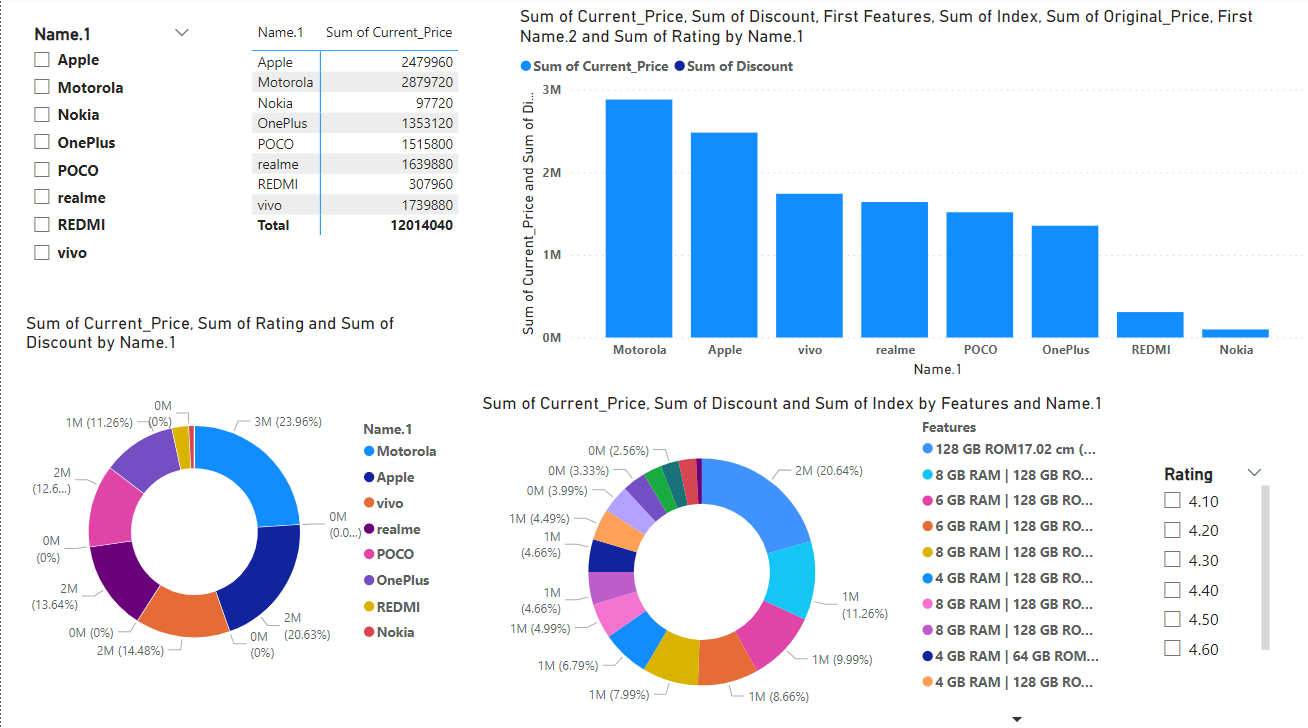

The page's visual inventory and layout, read from the dashboard file:
{"tool":"powerbi","page":{"name":"Page 1","canvas":[1280,720],"ordinal":0},"visuals":[{"type":"textbox","box":[10,0,280,280],"z":0},{"type":"textbox","box":[10,570,280,150],"z":2000},{"type":"textbox","box":[300,0,280,280],"z":3000},{"type":"textbox","box":[880,0,280,280],"z":8000},{"type":"textbox","box":[880,570,280,150],"z":9000},{"type":"slicer","fields":{"Values":["SQL databse.Rating"]},"box":[1124.6,452.3,121,204.1],"z":10000},{"type":"donutChart","fields":{"Category":["SQL databse.Features"],"Series":["SQL databse.Brand_Name"],"Y":["Sum(SQL databse.Current_Price)"]},"box":[465.7,387.5,624.7,332.5],"z":12004},{"type":"pivotTable","fields":{"Values":["Sum(SQL databse.Current_Price)"],"Rows":["SQL databse.Brand_Name"]},"box":[240.8,19.6,262.8,260.4],"z":12007},{"type":"columnChart","fields":{"Category":["SQL databse.Brand_Name"],"Y":["Sum(SQL databse.Current_Price)","Sum(SQL databse.Discount)"]},"box":[502.4,9.8,777.5,367.9],"z":12008},{"type":"donutChart","fields":{"Category":["SQL databse.Brand_Name","SQL databse.Specialization"],"Y":["Sum(SQL databse.Current_Price)","Sum(SQL databse.Rating)","Sum(SQL databse.Discount)"]},"box":[19.6,309.3,420.5,391.2],"z":12009},{"type":"slicer","fields":{"Values":["SQL databse.Brand_Name"]},"box":[19.6,22,177.2,260.4],"z":12010}]}

Visuals, with their boxes in screenshot pixels (x1, y1, x2, y2), scaled from the page's 1280x720 canvas onto the 1308x728 screenshot:
textbox: 10/0/296/283
textbox: 10/576/296/727
textbox: 307/0/593/283
textbox: 899/0/1185/283
textbox: 899/576/1185/727
slicer - SQL databse.Rating: 1149/457/1273/664
donutChart - SQL databse.Features x SQL databse.Brand_Name: 476/392/1114/727
pivotTable - Sum(SQL databse.Current_Price) x SQL databse.Brand_Name: 246/20/515/283
columnChart - SQL databse.Brand_Name x Sum(SQL databse.Current_Price): 513/10/1307/382
donutChart - SQL databse.Brand_Name x SQL databse.Specialization: 20/313/450/708
slicer - SQL databse.Brand_Name: 20/22/201/286
